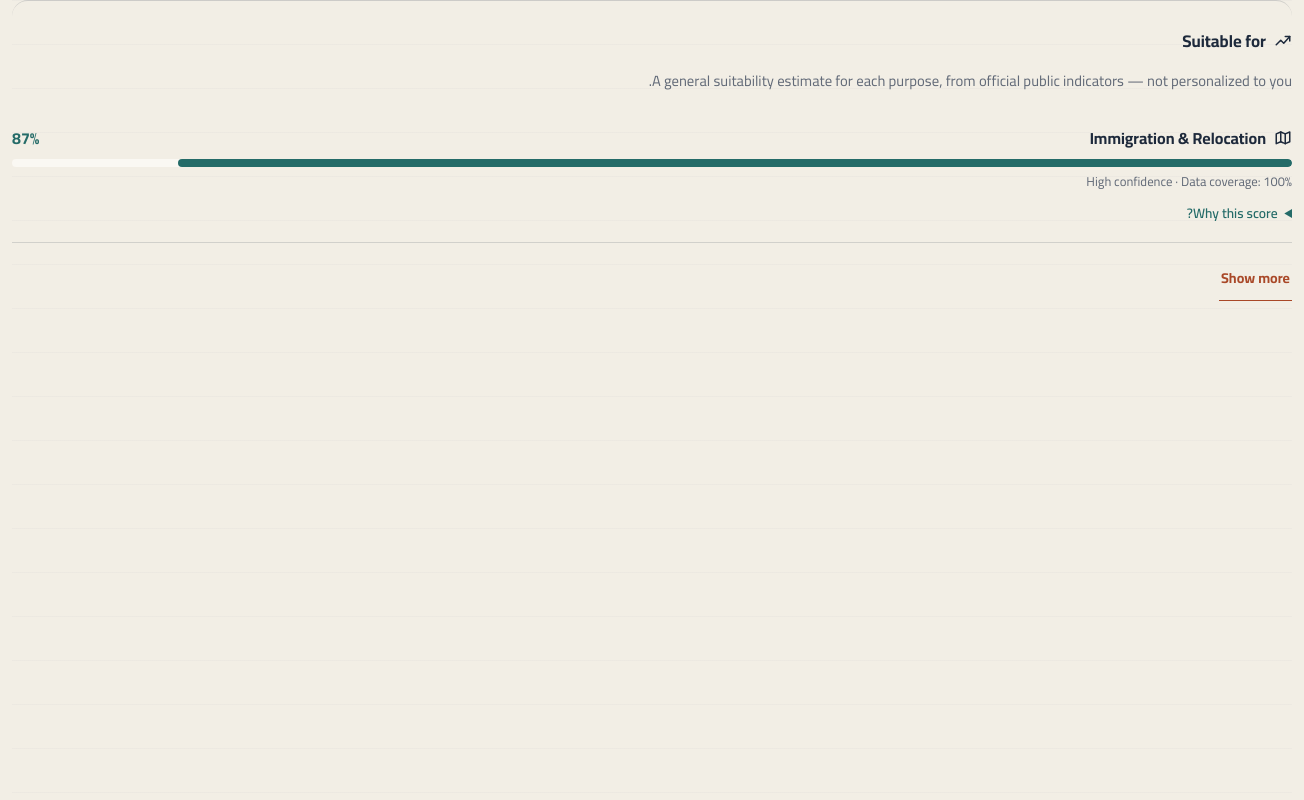
CountrySuitability against the real committed snapshot › renders every suitable purpose after expanding, with a percentage score for one known to have sufficient data
Click the button "Show more" at x=1256, y=279, box [1219, 257, 1292, 301]
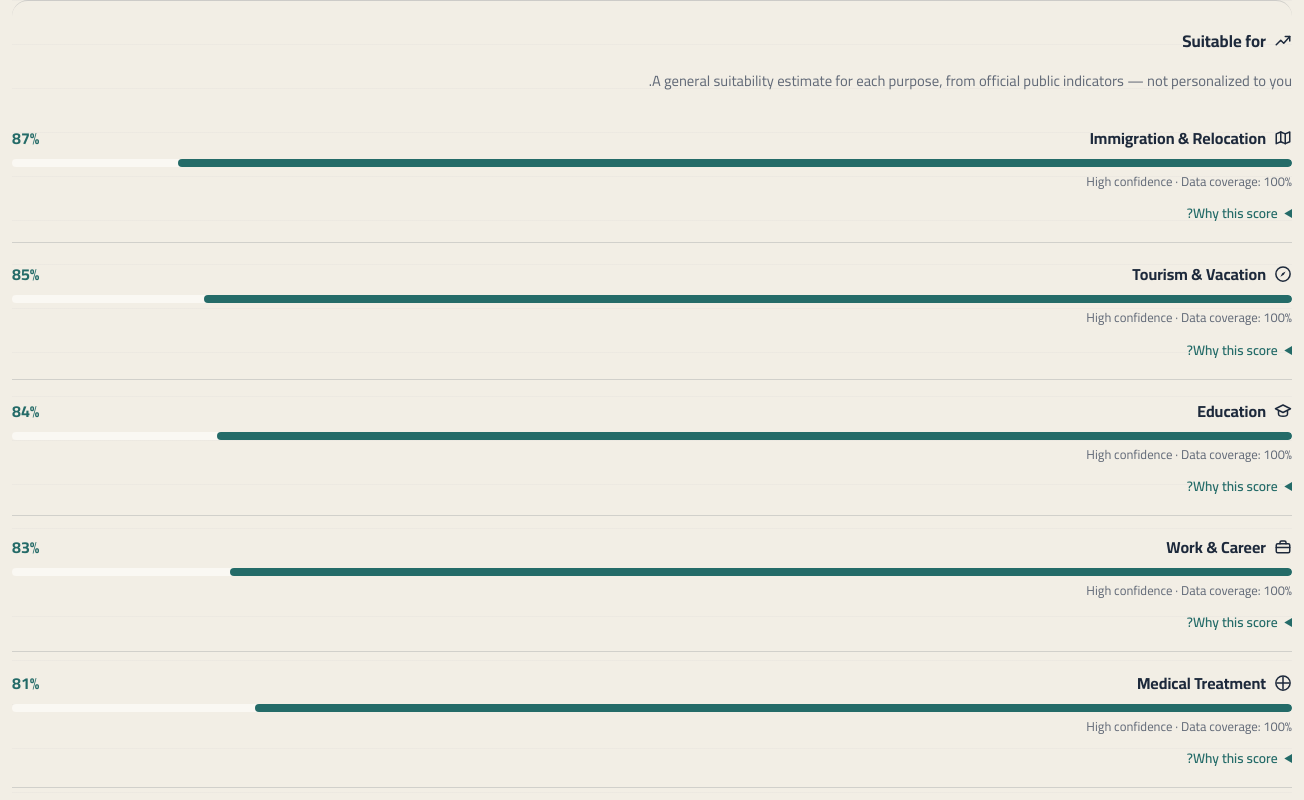
Result: the text "85%" is shown at [12, 259, 39, 289]
Result: the text "Tourism & Vacation" is shown at [1132, 259, 1266, 289]
